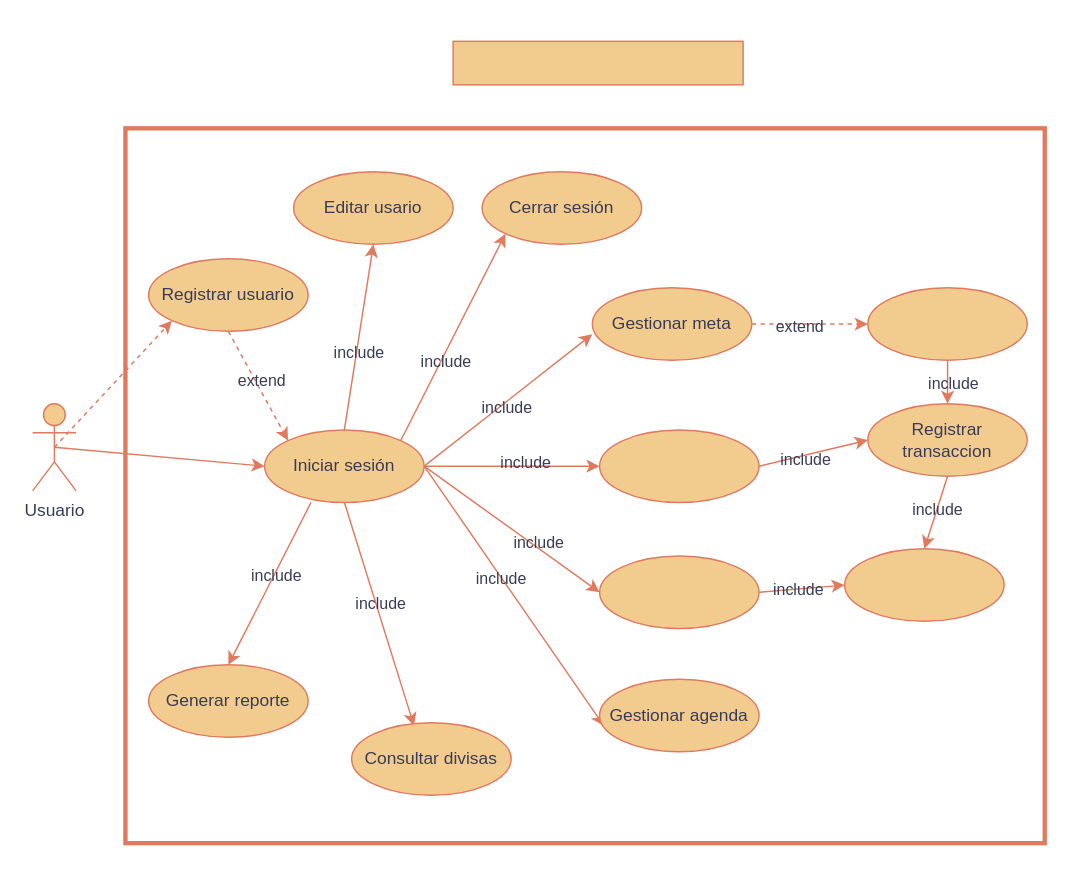
Image size: 1072x870. Some labels were removed from this diagram. The centre of each missing label's shape, as x and y in pixels:
Completar meta: [946,323]
Gestionar cuentas: [678,592]
Gestonar transacciones: [678,465]
Seleccionar cuenta: [923,584]
Sistema de gestión de finanzas personales "Accountly": [597,62]
